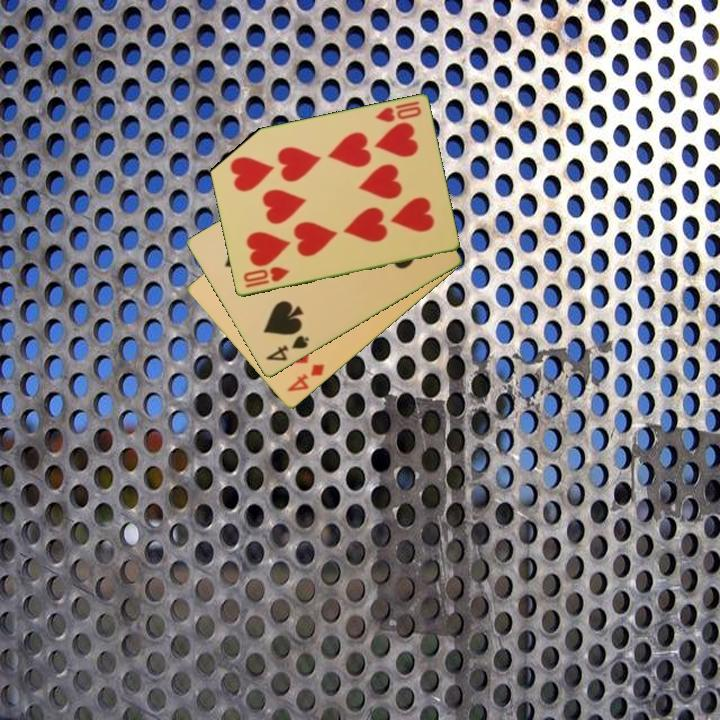10h: (240, 263, 292, 291), (372, 98, 424, 125)
4d: (284, 361, 327, 395)
4s: (262, 332, 312, 364)
